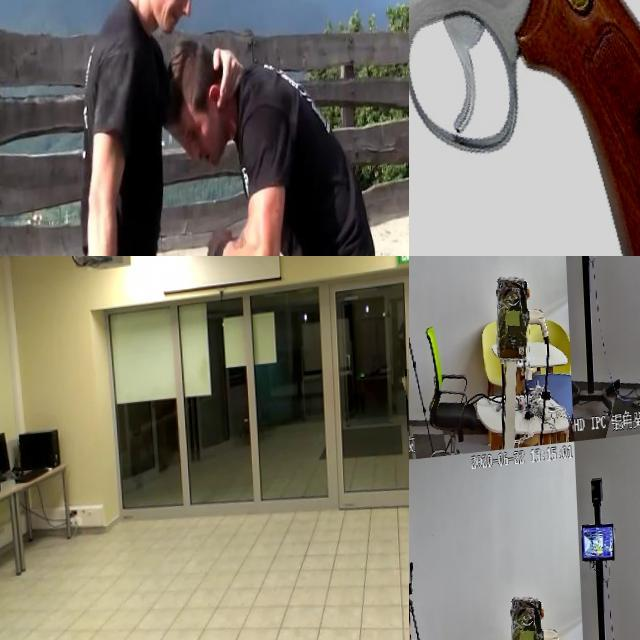gun-knife-thesis - v11 Yolov5 augmented: (409, 0, 640, 256), (409, 256, 422, 275)
